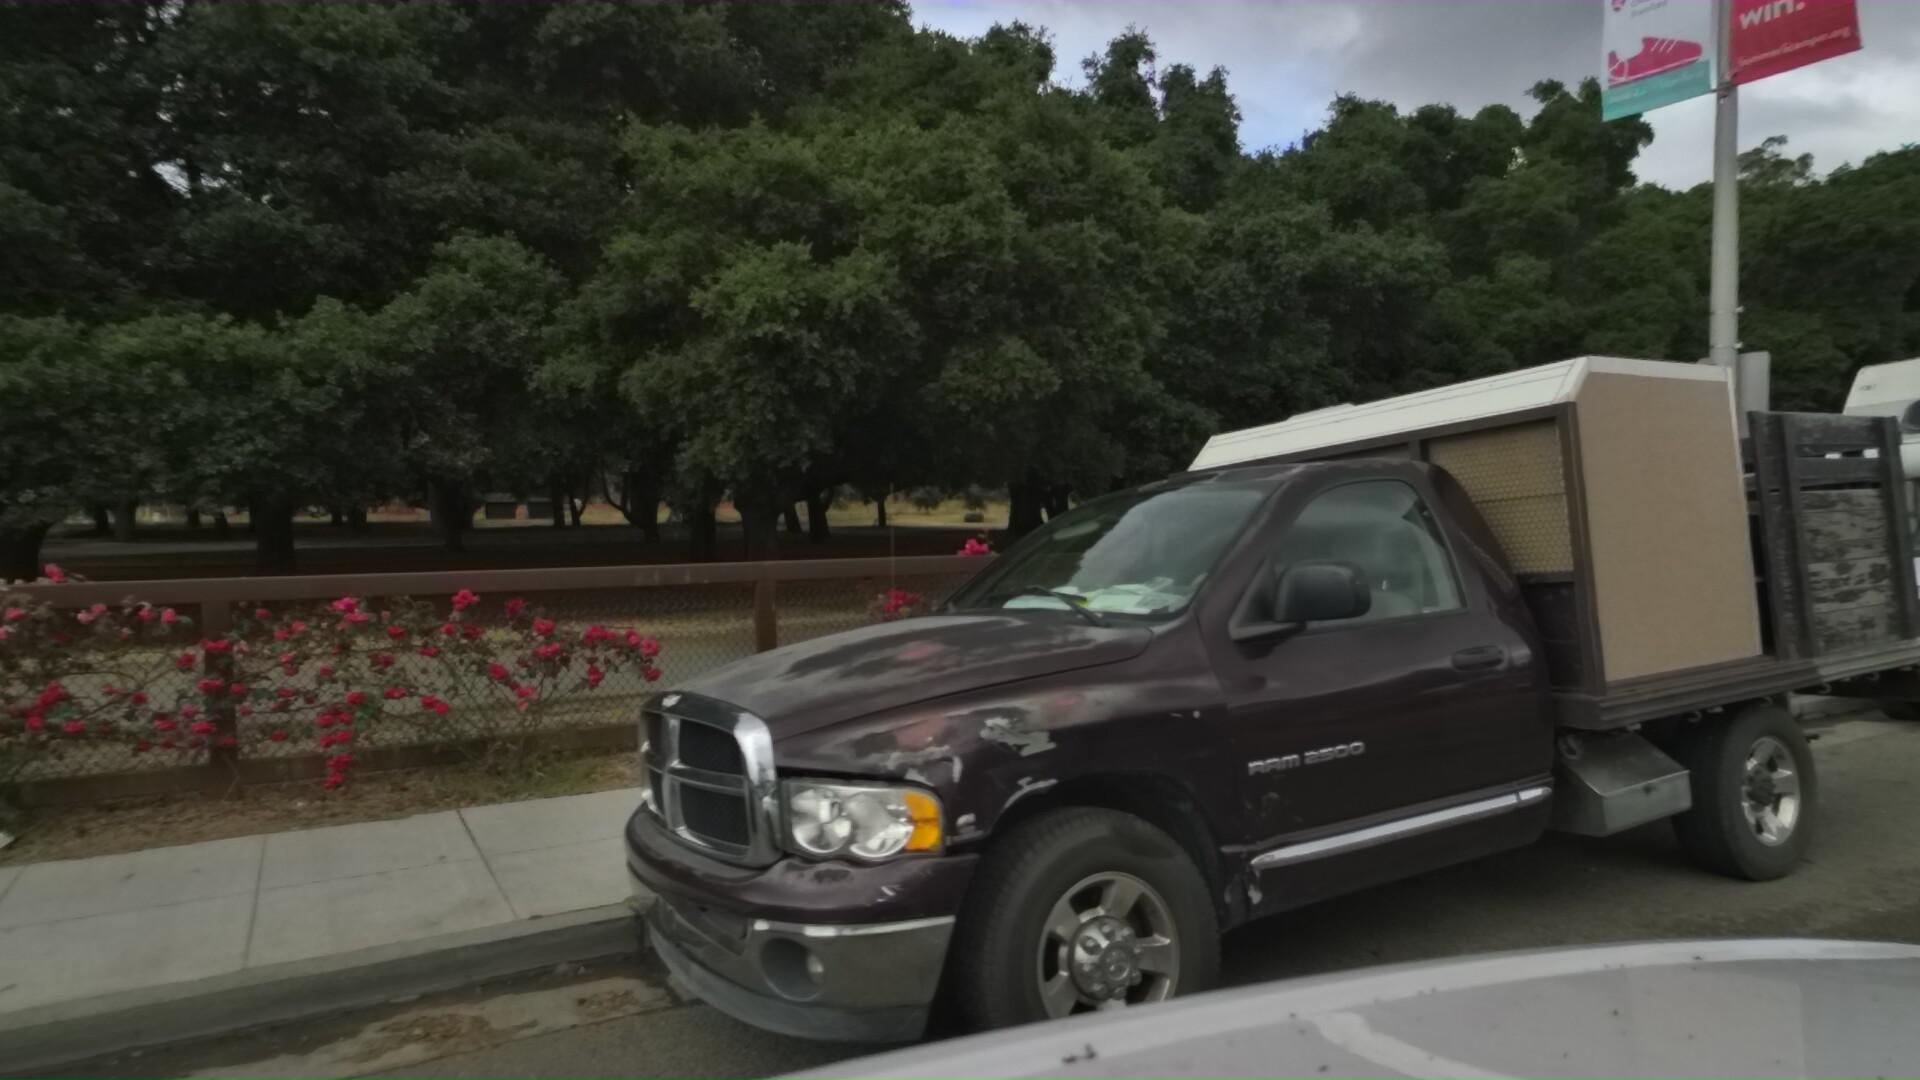car: (615, 240, 1920, 1080)
other_vehicle: (1745, 235, 1920, 779)
